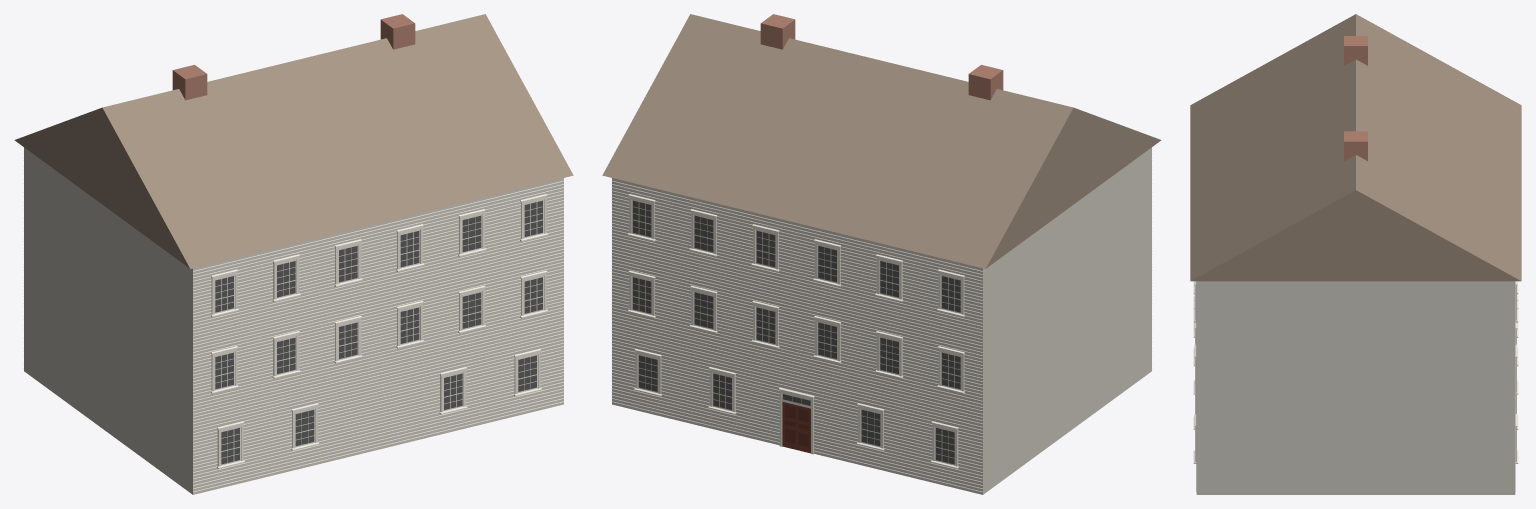
The model's file is recon_1835_gifford_h3_004__inferred_1835.glb.
The picture shows the model from 3 angles, left to right: view 1: azimuth 30°, elevation 25°; view 2: azimuth 150°, elevation 25°; view 3: azimuth 270°, elevation 25°; orthographic projection. The views are drawn at different scales.
Parts seen in each view (by area): view 1: recon_1835_gifford_h3_004__inferred_1835; view 2: recon_1835_gifford_h3_004__inferred_1835; view 3: recon_1835_gifford_h3_004__inferred_1835.
Part boxes in pixels (bbox=[...]): recon_1835_gifford_h3_004__inferred_1835: bbox=[14, 14, 573, 494]; recon_1835_gifford_h3_004__inferred_1835: bbox=[602, 14, 1161, 494]; recon_1835_gifford_h3_004__inferred_1835: bbox=[1190, 14, 1521, 494].
Bounding box in the file's own units: 15.7 × 13.35 × 12.5.
